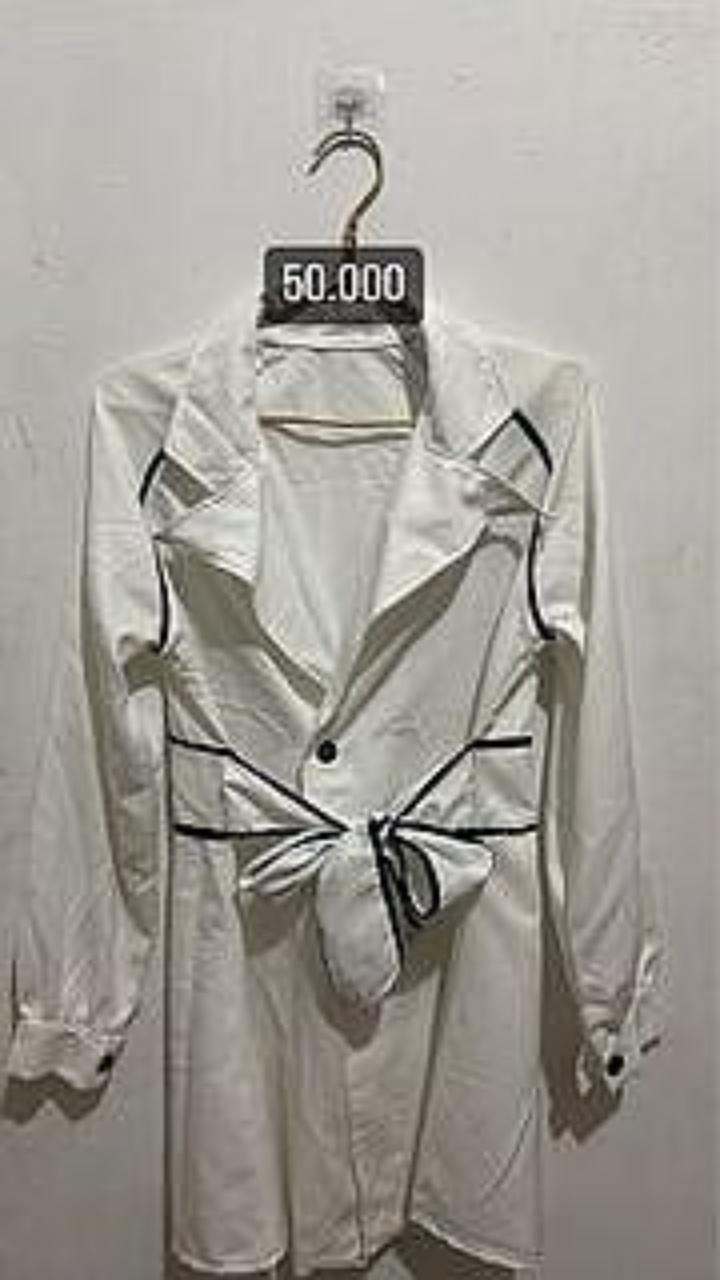Sports_Jacket: (9, 291, 658, 1275)
